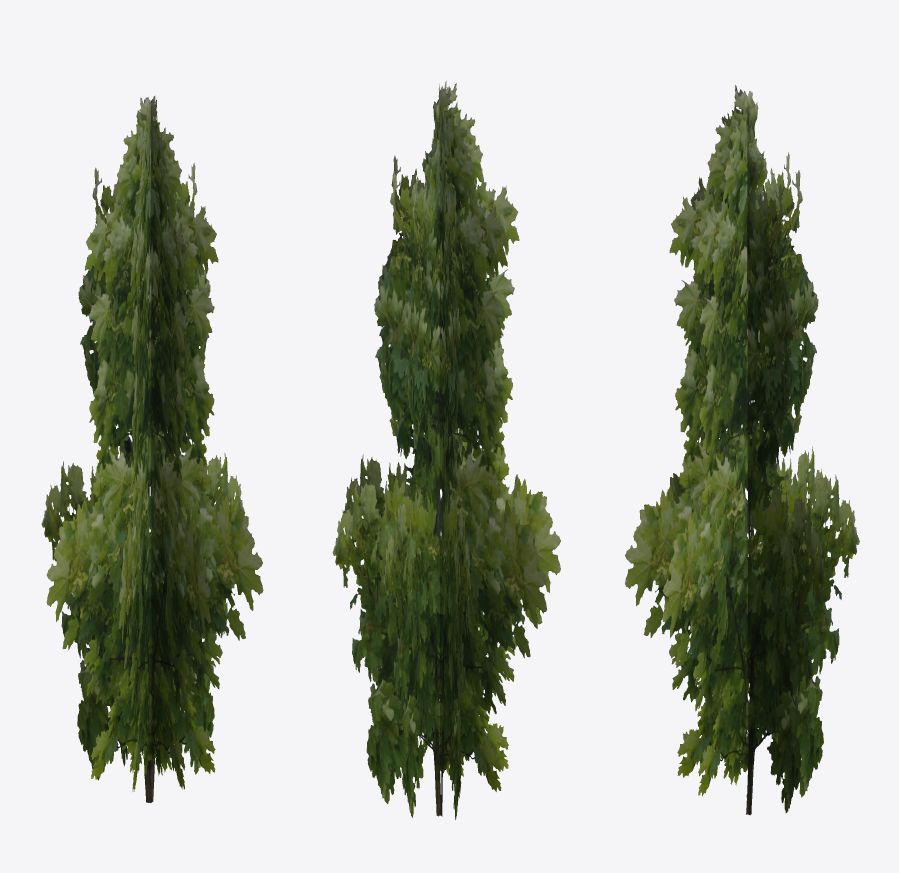
The model's file is tall-tree.fbx.
3 renders of one model, left to right at view 1: azimuth 30°, elevation 25°; view 2: azimuth 150°, elevation 25°; view 3: azimuth 270°, elevation 25°, orthographic. The views are drawn at different scales.
Parts seen in each view (by area): view 1: Plane; view 2: Plane; view 3: Plane.
Part boxes in pixels (bbox=[...]): Plane: bbox=[41, 95, 263, 803]; Plane: bbox=[332, 81, 560, 819]; Plane: bbox=[625, 85, 859, 815].
Bounding box in the file's own units: 1.1 × 3.27 × 1.09.
